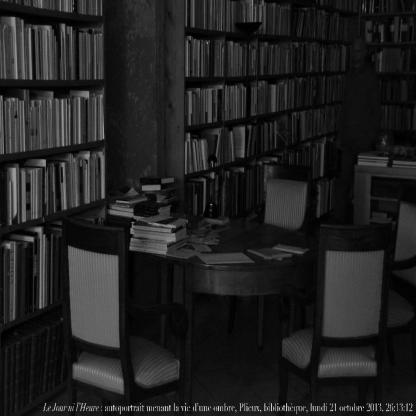book: (183, 0, 356, 225), (0, 1, 105, 327), (110, 172, 310, 278), (69, 90, 90, 142)
